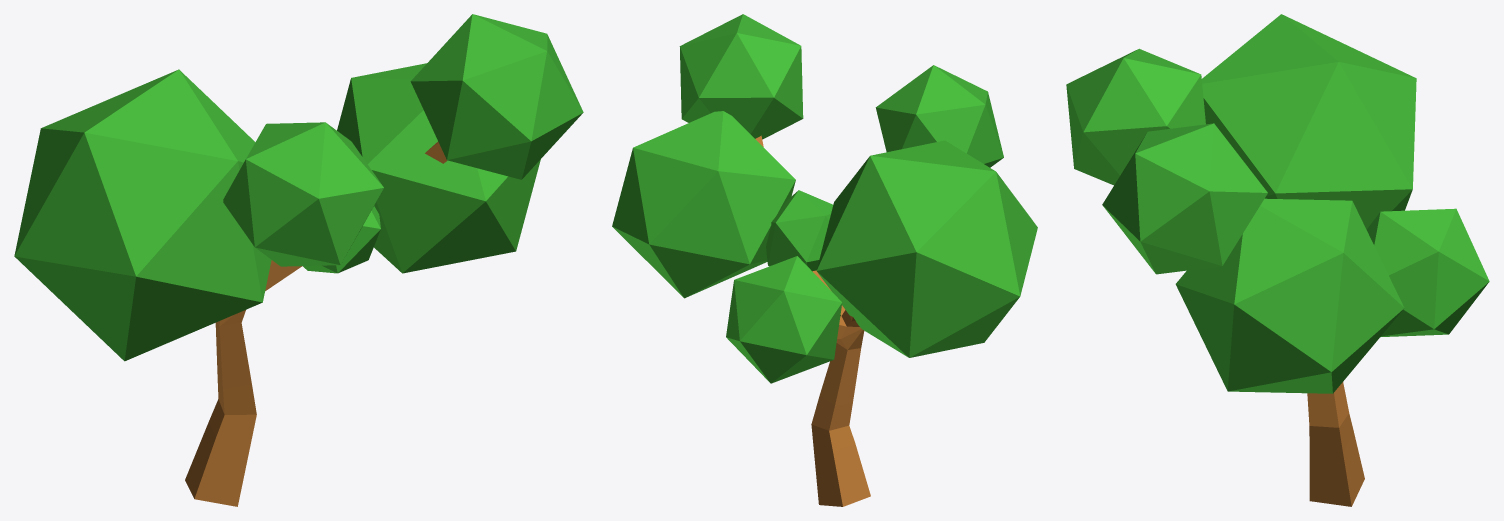
Rendered from Tree_Oak.fbx.
3 renders of one model, left to right at view 1: azimuth 30°, elevation 25°; view 2: azimuth 150°, elevation 25°; view 3: azimuth 270°, elevation 25°, orthographic. The views are drawn at different scales.
Parts seen in each view (by area): view 1: Oak.001; view 2: Oak.001; view 3: Oak.001.
Part boxes in pixels (x1=…): Oak.001: x1=14, y1=14, x2=583, y2=506; Oak.001: x1=612, y1=14, x2=1037, y2=506; Oak.001: x1=1066, y1=14, x2=1489, y2=506.
Bounding box in the file's own units: 763 × 714 × 590.
